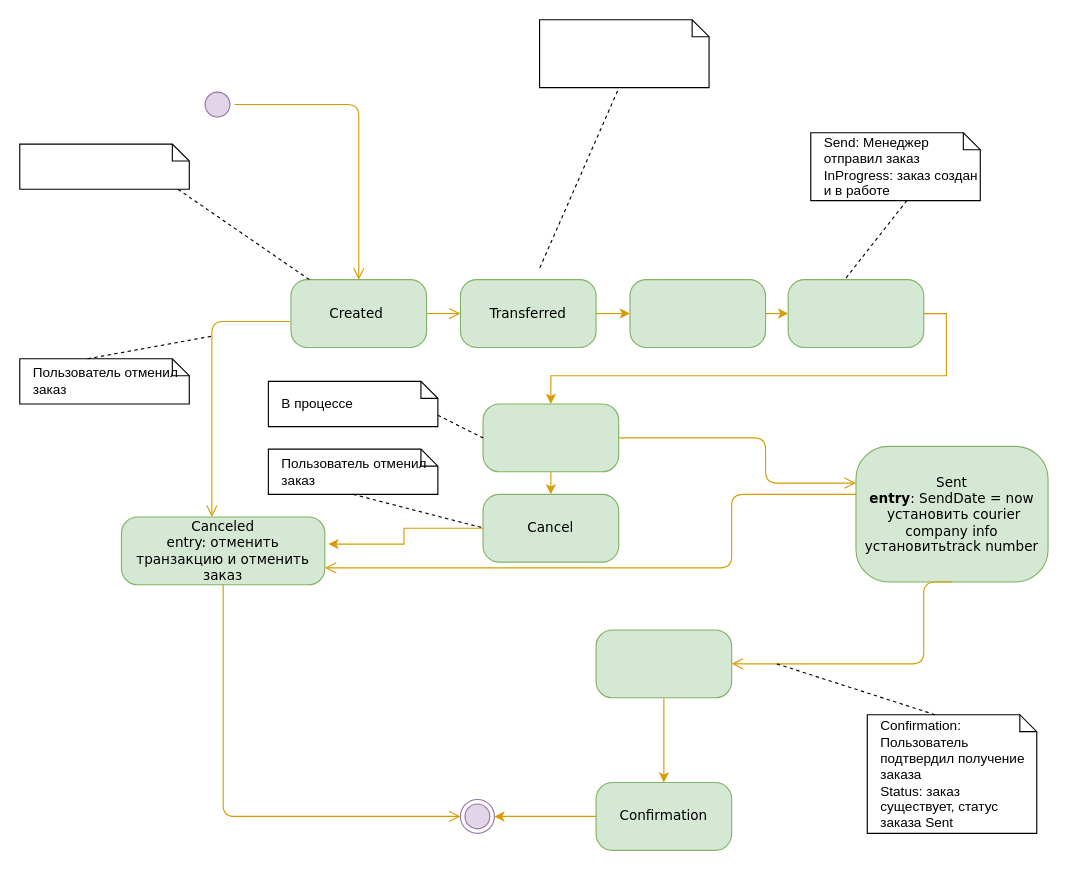
This 1068x870 diagram has some shape labels left out. Each missing label, with the centre of its shape:
Closed exit: отправить уведомление о доставке: point 663,663
Condition: point 697,313
InProgress: point 550,437
Send: point 855,313
Transferred Менеджер взял заказ в обработку Condition: заказ создан: point 623,53
Пользователь оформили заказ: point 104,166
